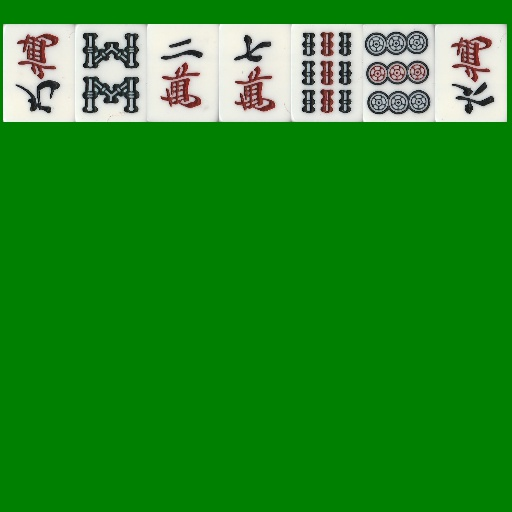2m: (147, 24, 219, 122)
6m: (435, 24, 507, 122)
7m: (219, 24, 291, 122)
8s: (75, 24, 147, 122)
9m: (3, 24, 75, 122)
9p: (363, 24, 435, 122)
9s: (291, 24, 363, 122)
